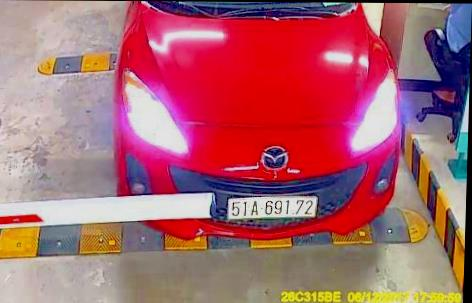License_Plate: (226, 189, 320, 223)
